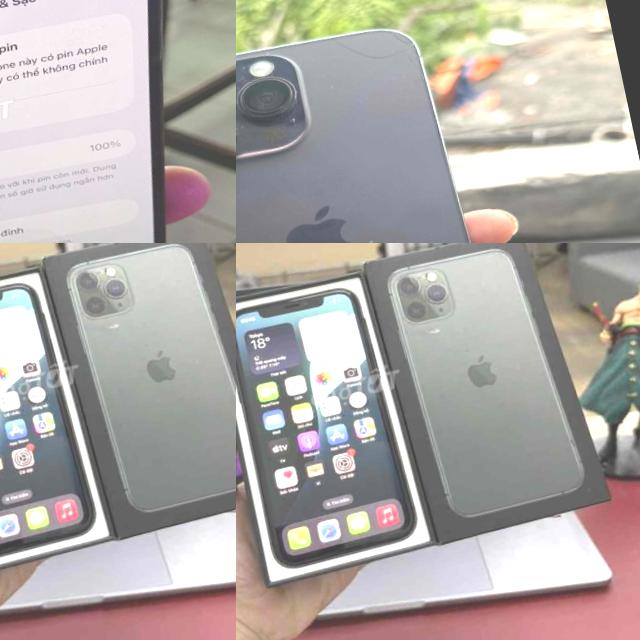gen_11: (236, 278, 423, 570), (0, 273, 102, 565)
gen_14: (236, 7, 532, 243), (0, 0, 236, 243)
